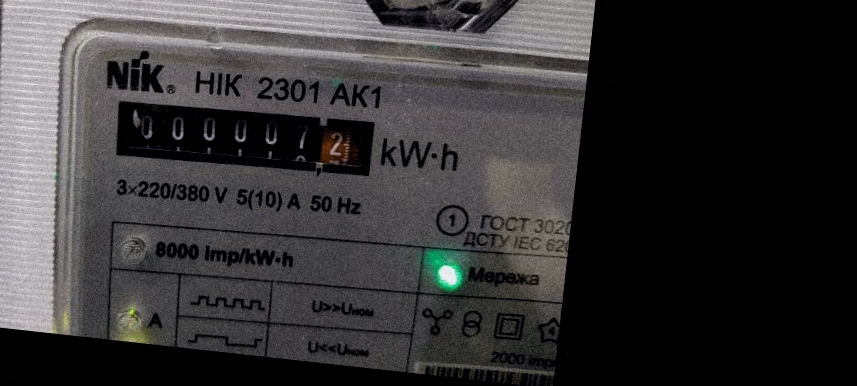0: (135, 111, 155, 140), (229, 115, 249, 144), (167, 112, 186, 141), (198, 113, 217, 142), (261, 118, 279, 147)
2: (326, 130, 344, 157)
7: (292, 120, 310, 152)
screen: (100, 86, 386, 189)
